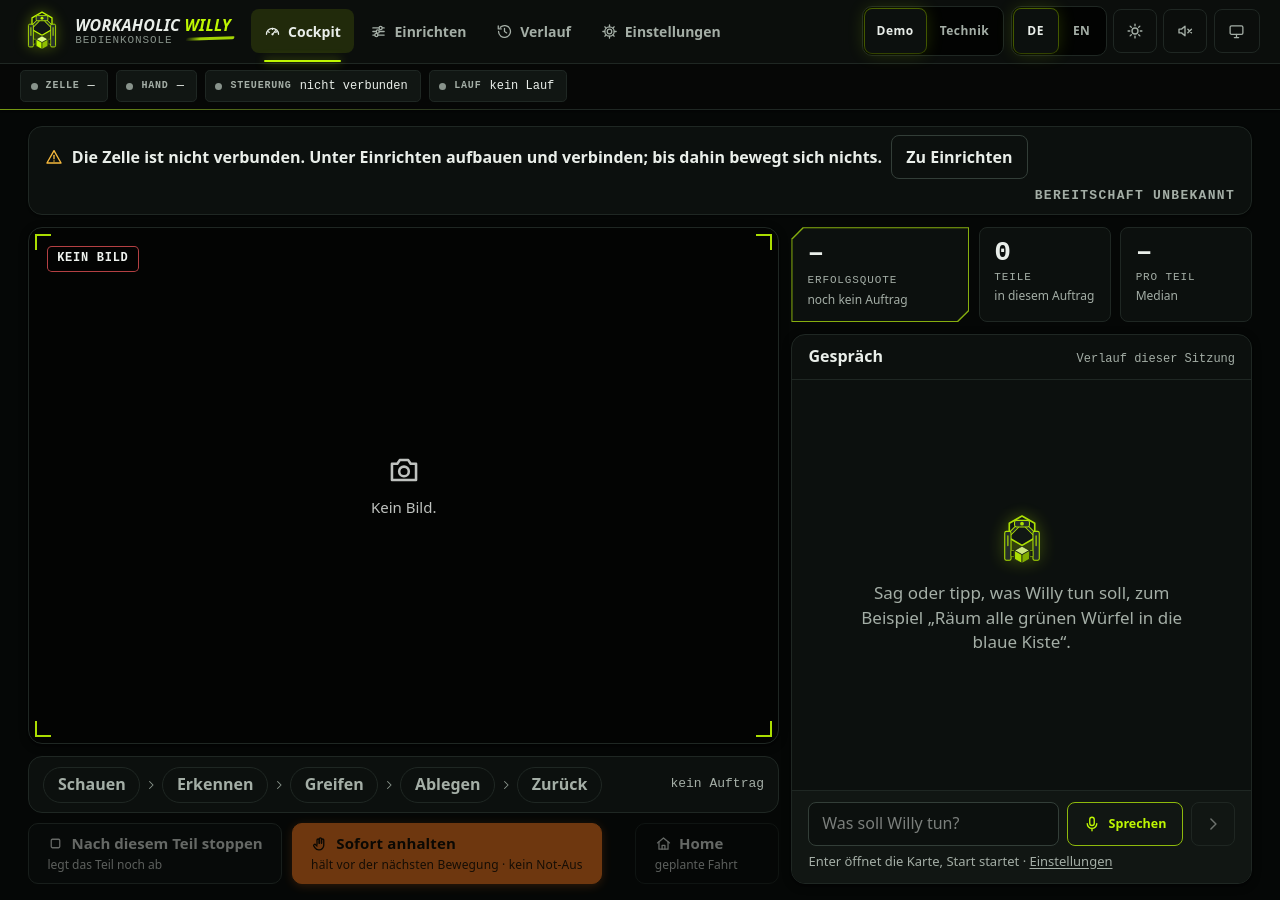
the top bar › switches between dark and light, and stamps the document
Click the button named "Zum hellen Design wechseln" at [1135, 31], box x1=1113 y1=9 x2=1157 y2=53
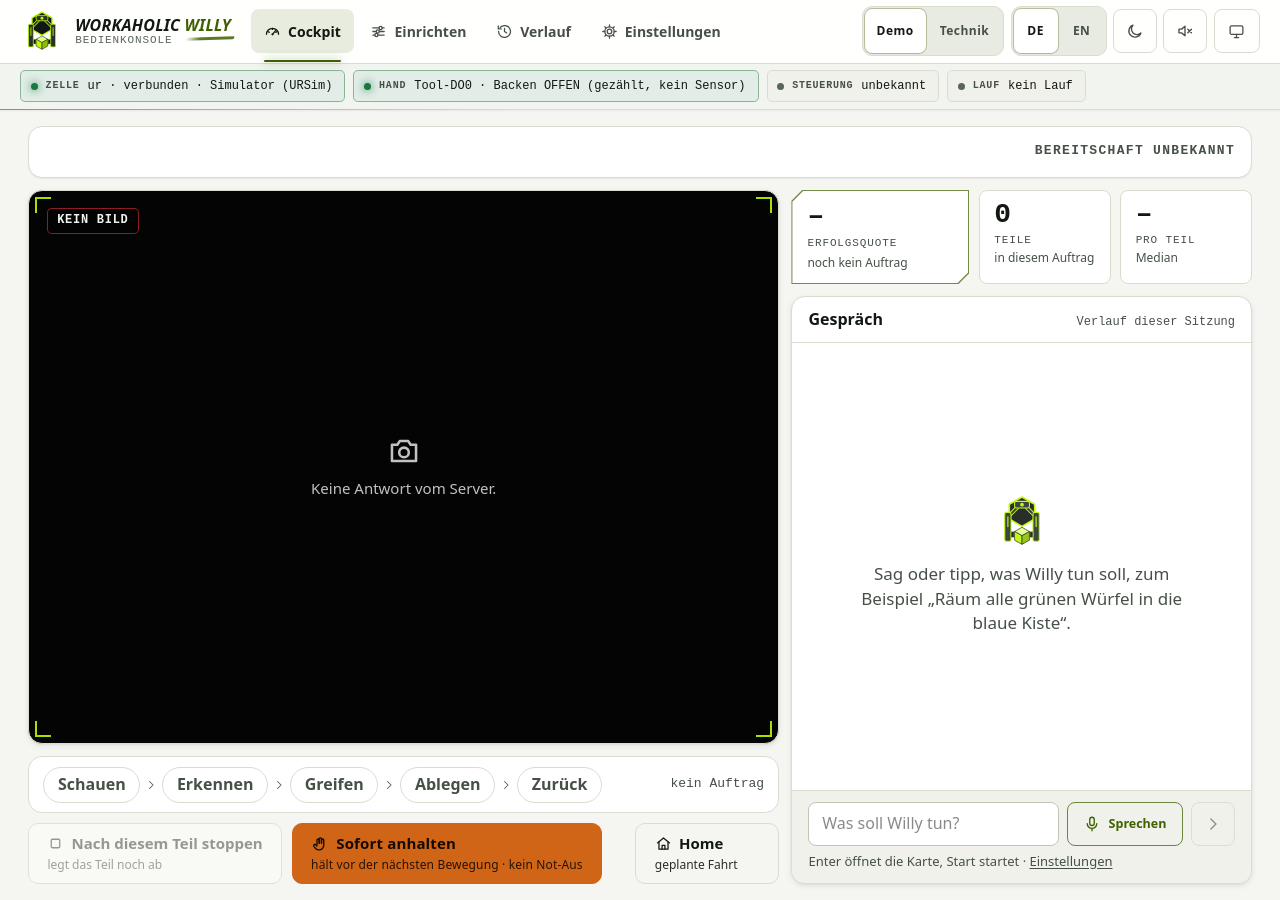
Expected: the button named "Zum dunklen Design wechseln" is shown, x1=1113 y1=9 x2=1157 y2=53
